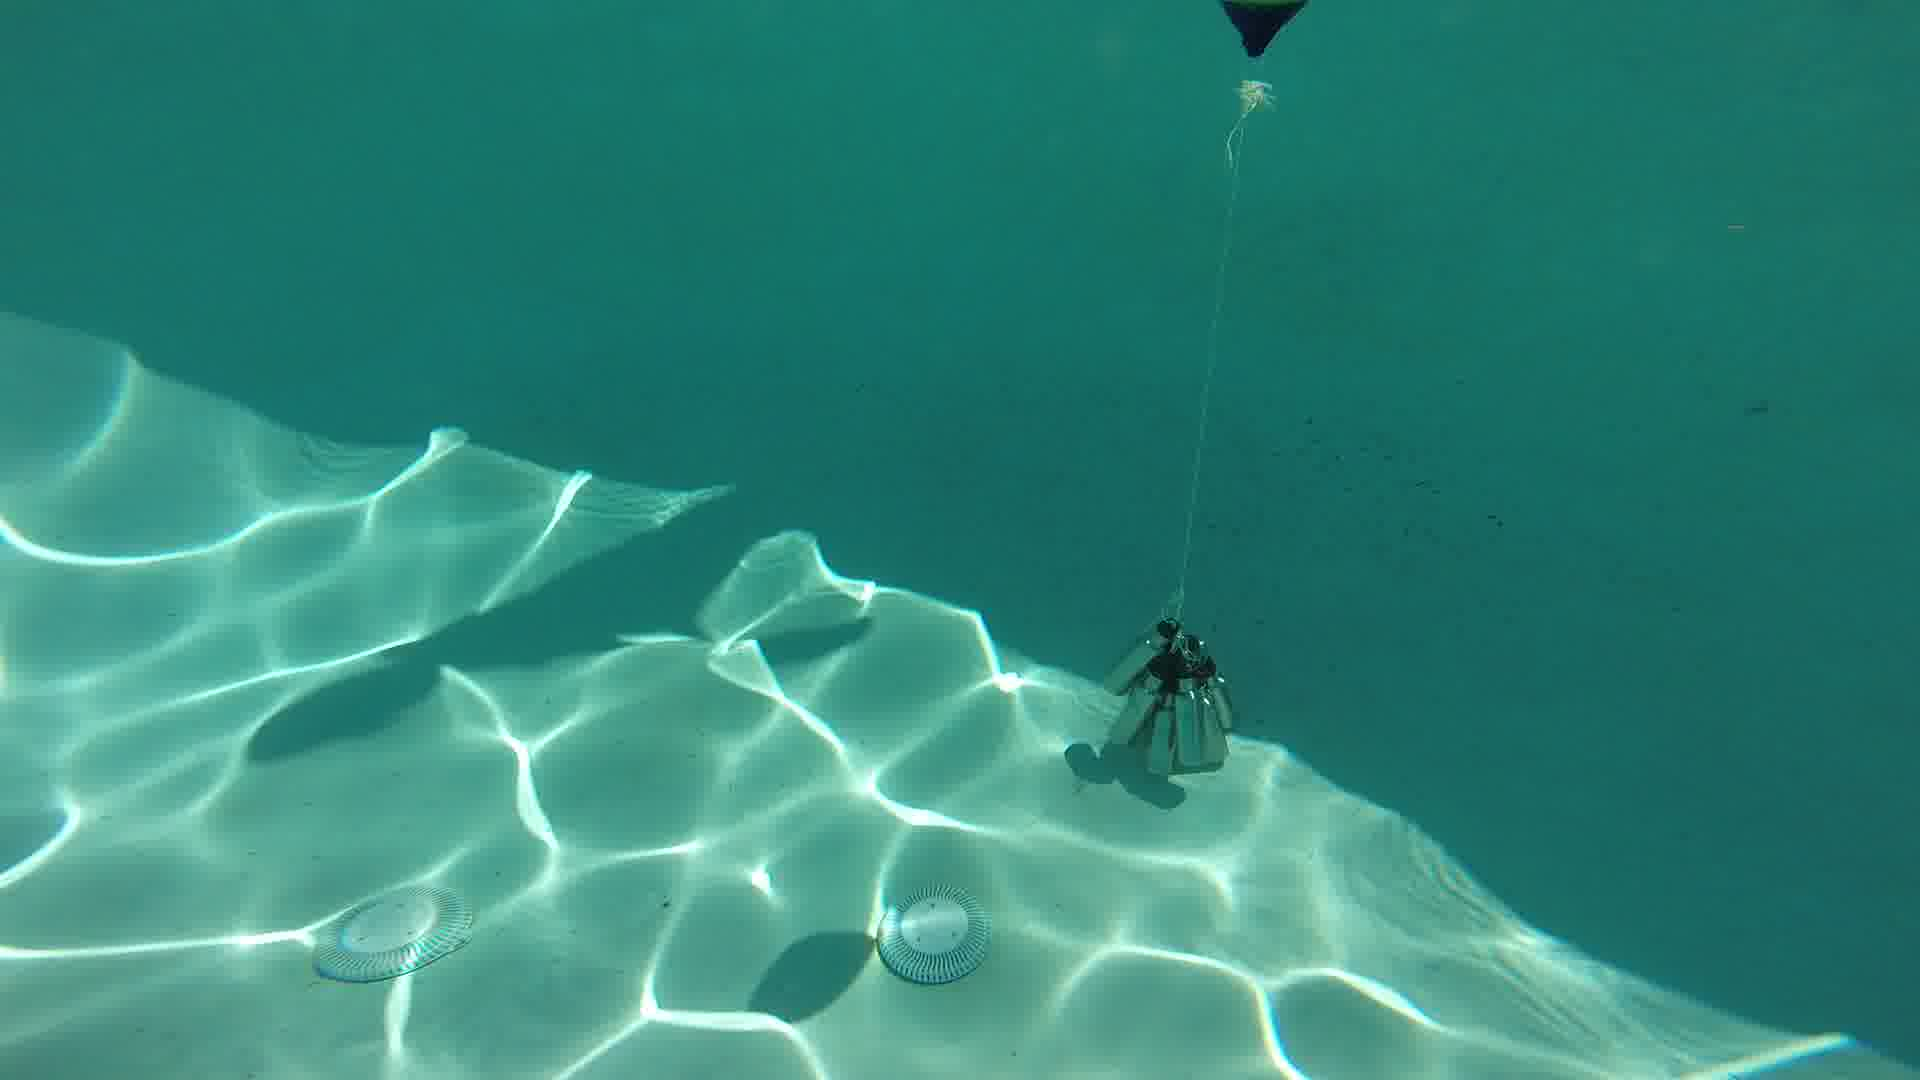yellow_buoy: (1222, 3, 1309, 111)
